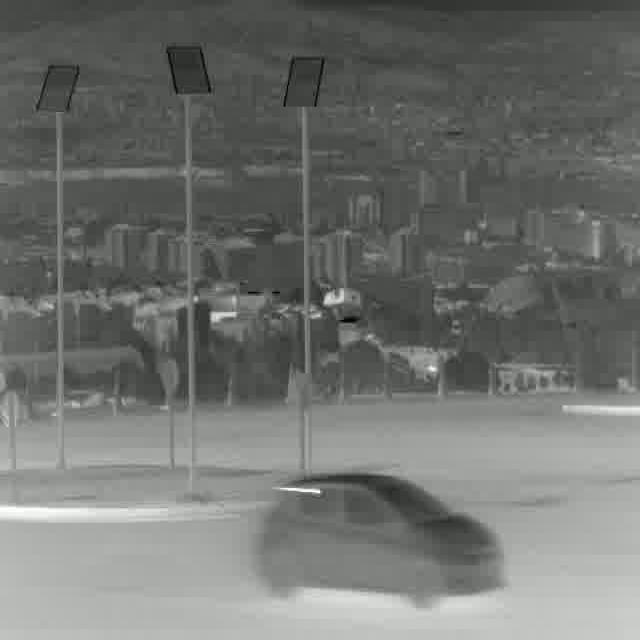Car: (257, 474, 508, 610)
